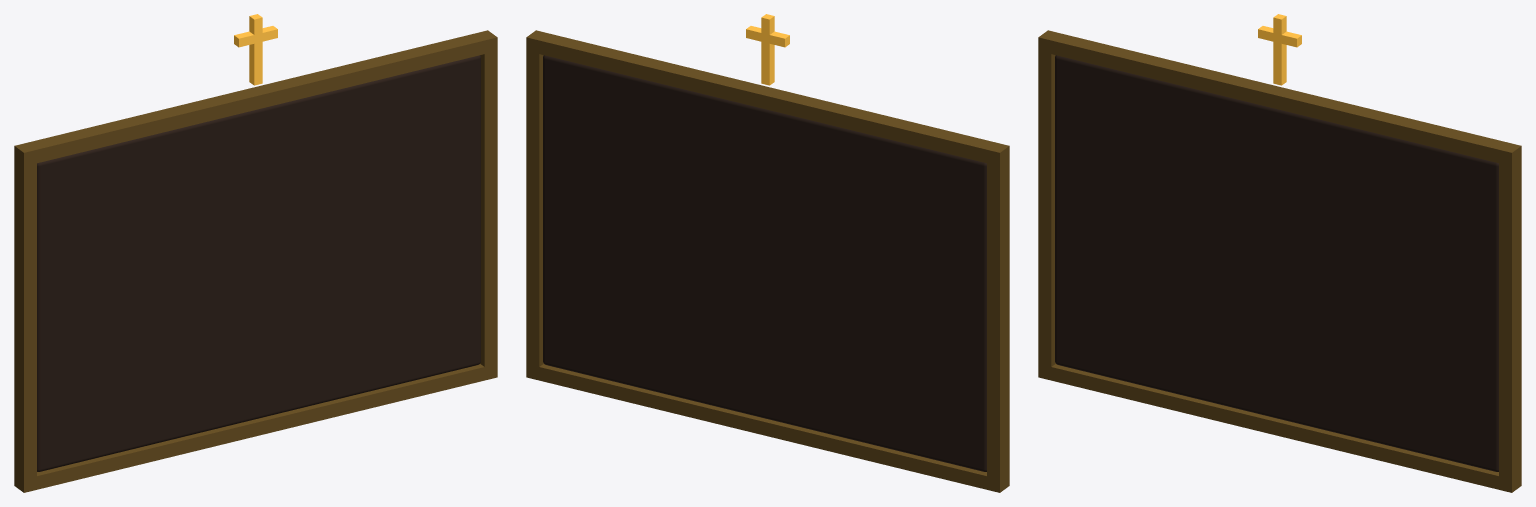
Rendered from donate-board.glb.
The picture shows the model from 3 angles, left to right: view 1: azimuth 30°, elevation 25°; view 2: azimuth 150°, elevation 25°; view 3: azimuth 330°, elevation 25°; orthographic projection.
Visible parts, largest first — view 1: Panel, object 2, object 3, object 4, object 5, Cross; view 2: Panel, object 2, object 3, object 4, object 5, Cross; view 3: Panel, object 2, object 3, object 5, object 4, Cross.
Part boxes in pixels (x1,y1,x2,y2): Panel: (37, 55, 480, 471); object 2: (17, 31, 493, 165); object 3: (27, 364, 494, 491); object 4: (14, 145, 36, 492); object 5: (475, 30, 497, 379); Cross: (234, 14, 277, 85); Panel: (543, 55, 986, 471); object 2: (529, 31, 1006, 165); object 3: (529, 364, 995, 489); object 4: (987, 145, 1009, 492); object 5: (526, 30, 548, 380); Cross: (746, 14, 789, 85); Panel: (1055, 55, 1498, 471); object 2: (1041, 31, 1518, 165); object 3: (1041, 364, 1507, 489); object 5: (1499, 145, 1521, 492); object 4: (1038, 30, 1060, 380); Cross: (1258, 14, 1301, 85).
Size of the model in its own units: 2.55 by 2.14 by 0.09.
